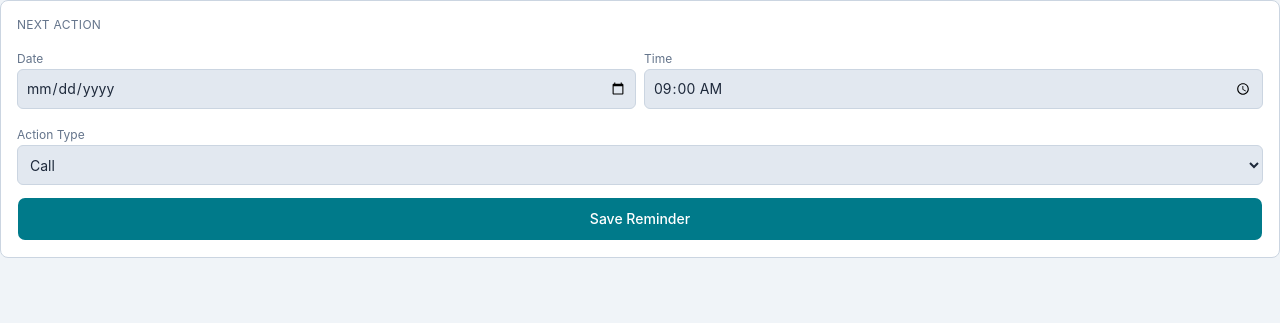
Test: LeadNextAction › blocks submission and shows a client error when the date is empty
The width and height of the screenshot is (1280, 323).
Click the button "Save Reminder" at (640,219), box [17, 197, 1263, 241]
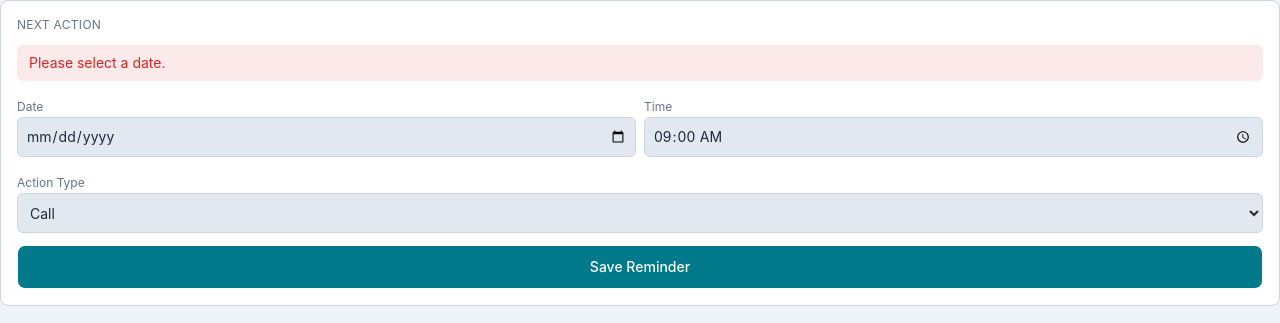
Expected: the message shows "Please select a date", [29, 54, 166, 71]
